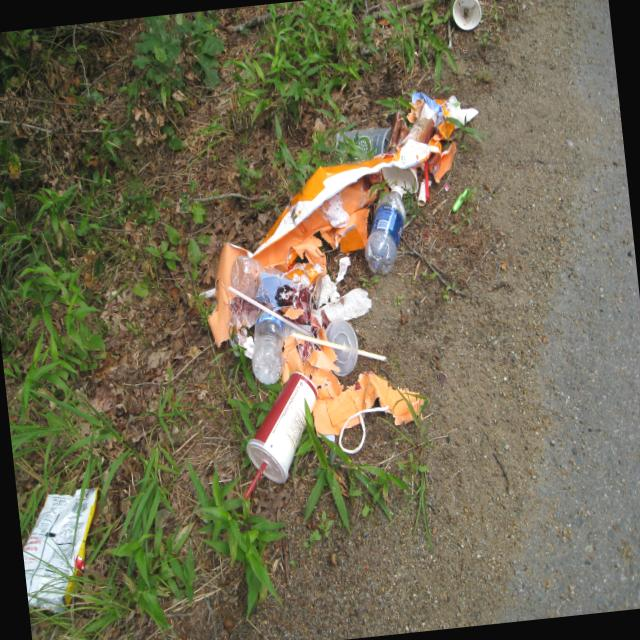garbage: (158, 40, 536, 502)
